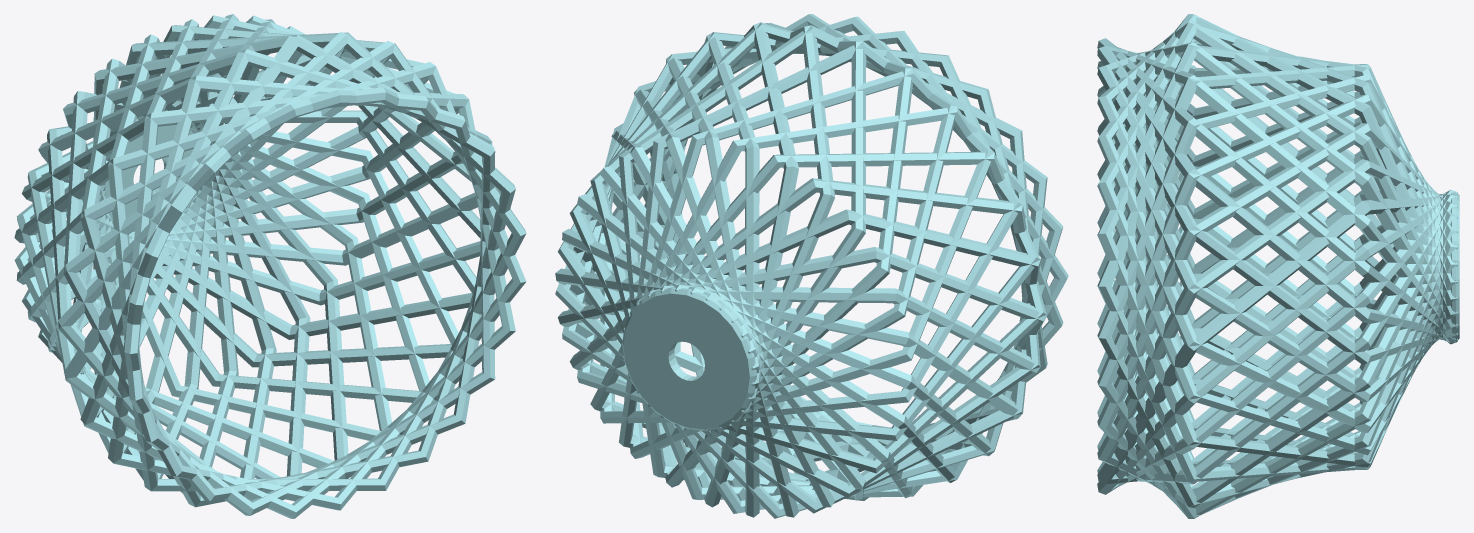
Rendered from tinker_1.obj.
3 renders of one model, left to right at view 1: azimuth 30°, elevation 25°; view 2: azimuth 150°, elevation 25°; view 3: azimuth 270°, elevation 25°, orthographic.
Parts seen in each view (by area): view 1: obj_0; view 2: obj_0; view 3: obj_0.
Part boxes in pixels (bbox=[...]): obj_0: bbox=[14, 14, 526, 518]; obj_0: bbox=[555, 14, 1068, 518]; obj_0: bbox=[1097, 14, 1459, 518].
Bounding box in the file's own units: 133 × 134 × 95.84.
